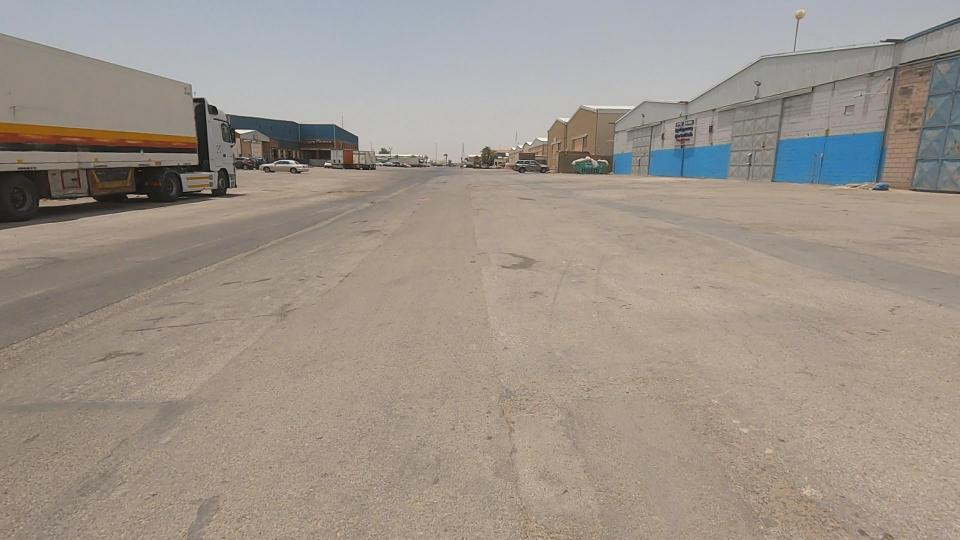GARBAGE: (836, 159, 923, 216)
POTHOLES: (277, 149, 414, 243)
